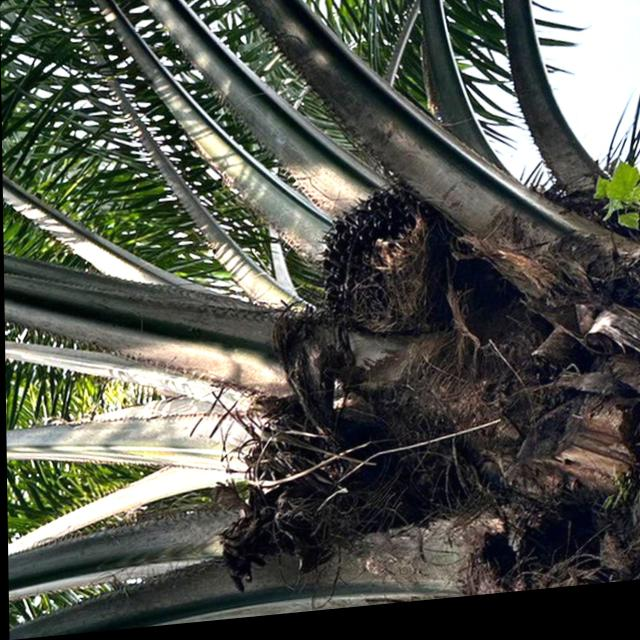almost: (309, 174, 433, 351)
